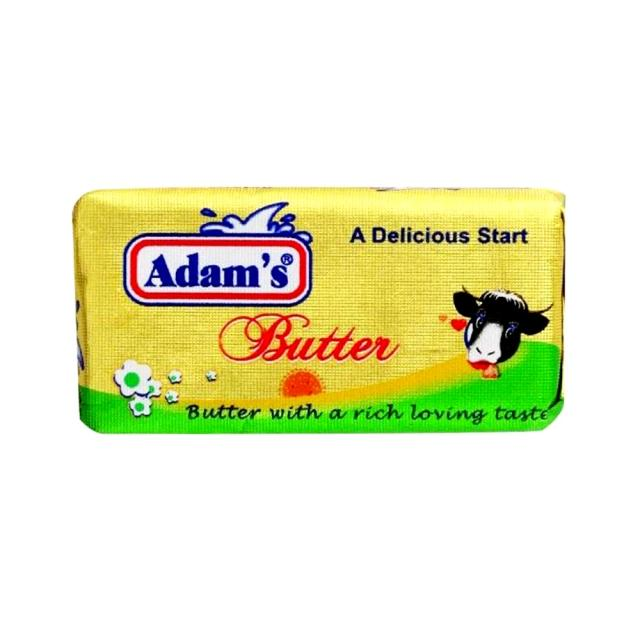butter: (72, 186, 566, 434)
